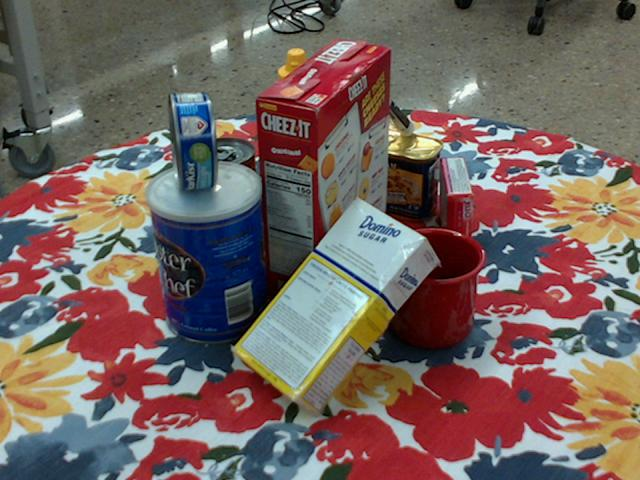cracker_box: (253, 40, 391, 311)
gelatin_box: (440, 155, 472, 253)
large_marker: (365, 81, 413, 135)
master_chef_can: (147, 162, 267, 347)
mug: (356, 226, 485, 348)
mustard_bottle: (258, 49, 344, 223)
potted_meat_can: (350, 125, 442, 221)
sugar_box: (232, 198, 438, 421)
tomato_soup_can: (191, 137, 260, 249)
tuna_fish_can: (167, 91, 217, 191)
